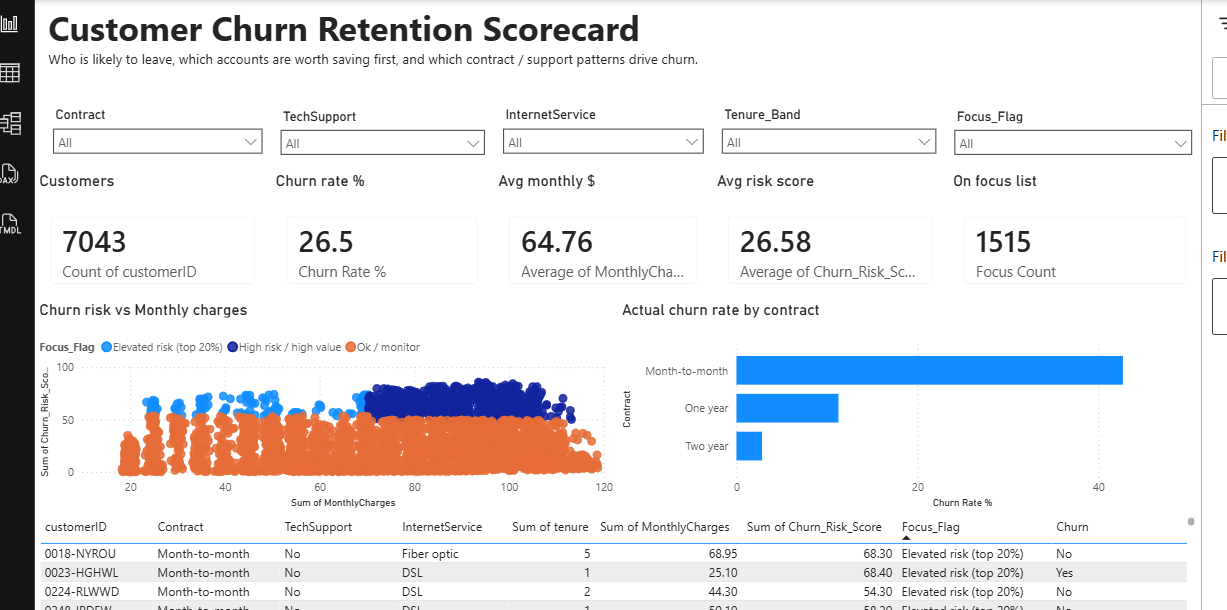

The page's visual inventory and layout, read from the dashboard file:
{"tool":"powerbi","page":{"name":"Scorecard","canvas":[1280,720],"ordinal":0},"visuals":[{"type":"textbox","box":[9.6,0,1232.3,112.5],"z":0},{"type":"slicer","fields":{"Values":["customers.Contract"]},"box":[9.6,112.5,249.7,75.5],"z":1},{"type":"slicer","fields":{"Values":["customers.TechSupport"]},"box":[259.3,113.9,244.3,74.1],"z":2},{"type":"slicer","fields":{"Values":["customers.InternetService"]},"box":[503.6,112.5,240.1,75.5],"z":3},{"type":"slicer","fields":{"Values":["customers.Tenure_Band"]},"box":[743.7,112.5,255.2,75.5],"z":4},{"type":"slicer","fields":{"Values":["customers.Focus_Flag"]},"box":[999,113.9,281.3,74.1],"z":5},{"type":"cardVisual","title":"Customers","fields":{"Data":["CountNonNull(customers.customerID)"]},"box":[0,188,259.3,141.3],"z":6},{"type":"cardVisual","title":"Churn rate %","fields":{"Data":["customers.Churn Rate %"]},"box":[259.3,188,244.3,141.3],"z":7},{"type":"cardVisual","title":"Avg monthly $","fields":{"Data":["Avg(customers.MonthlyCharges)"]},"box":[503.6,188,240.1,141.3],"z":8},{"type":"cardVisual","title":"Avg risk score","fields":{"Data":["Avg(customers.Churn_Risk_Score)"]},"box":[743.7,188,259.3,141.3],"z":9},{"type":"cardVisual","title":"On focus list","fields":{"Data":["customers.Focus Count"]},"box":[1003.1,188,277.2,141.3],"z":10},{"type":"scatterChart","title":"Churn risk vs Monthly charges","fields":{"Category":["customers.customerID"],"Series":["customers.Focus_Flag"],"X":["Sum(customers.MonthlyCharges)"],"Y":["Sum(customers.Churn_Risk_Score)"]},"box":[0,329.3,639.5,233.3],"z":11},{"type":"clusteredBarChart","title":"Actual churn rate by contract","fields":{"Category":["customers.Contract"],"Y":["customers.Churn Rate %"]},"box":[639.5,329.3,639.5,233.3],"z":12},{"type":"tableEx","fields":{"Values":["customers.customerID","customers.Contract","customers.TechSupport","customers.InternetService","Sum(customers.tenure)","Sum(customers.MonthlyCharges)","Sum(customers.Churn_Risk_Score)","customers.Focus_Flag","customers.Churn"]},"box":[0,562.6,1278.9,157.8],"z":13}]}

Visuals, with their boxes on the page's 1280x720 design canvas (x1, y1, x2, y2). These are canvas units, not pixel positions in the 1227x610 screenshot, which may show the page scaled, cropped or inside an application window:
textbox: l=10, t=0, r=1242, b=112
slicer - customers.Contract: l=10, t=112, r=259, b=188
slicer - customers.TechSupport: l=259, t=114, r=504, b=188
slicer - customers.InternetService: l=504, t=112, r=744, b=188
slicer - customers.Tenure_Band: l=744, t=112, r=999, b=188
slicer - customers.Focus_Flag: l=999, t=114, r=1280, b=188
"Customers" cardVisual: l=0, t=188, r=259, b=329
"Churn rate %" cardVisual: l=259, t=188, r=504, b=329
"Avg monthly $" cardVisual: l=504, t=188, r=744, b=329
"Avg risk score" cardVisual: l=744, t=188, r=1003, b=329
"On focus list" cardVisual: l=1003, t=188, r=1280, b=329
"Churn risk vs Monthly charges" scatterChart: l=0, t=329, r=640, b=563
"Actual churn rate by contract" clusteredBarChart: l=640, t=329, r=1279, b=563
tableEx - customers.customerID x customers.Contract: l=0, t=563, r=1279, b=720
